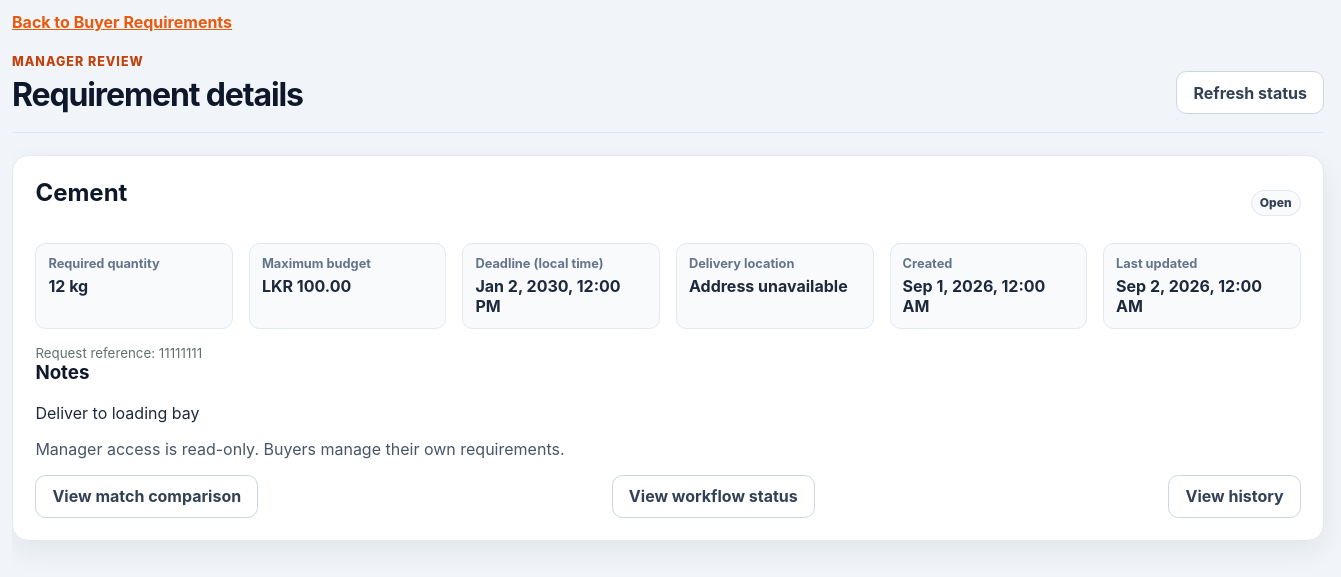
Test: manager requirement components › renders read-only details, workflow status and paginated status history
Expected: the text "Deliver to loading bay" is shown, [35, 403, 200, 423]
Click the link "View workflow status" at (713, 496), box [612, 475, 815, 518]
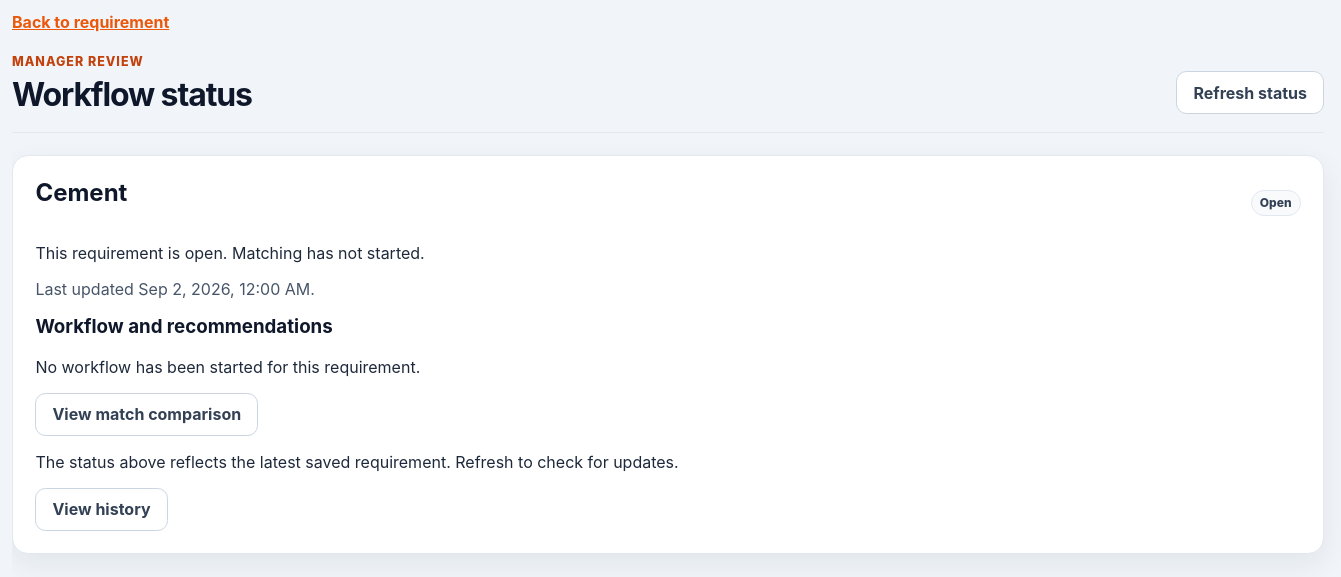
Now the text "No workflow has been started for this requirement." is shown, box [35, 357, 420, 377]
Now the text "This requirement is open. Matching has not started." is shown, box [35, 243, 425, 263]
Click the link "View history" at (102, 509), box [35, 488, 168, 531]
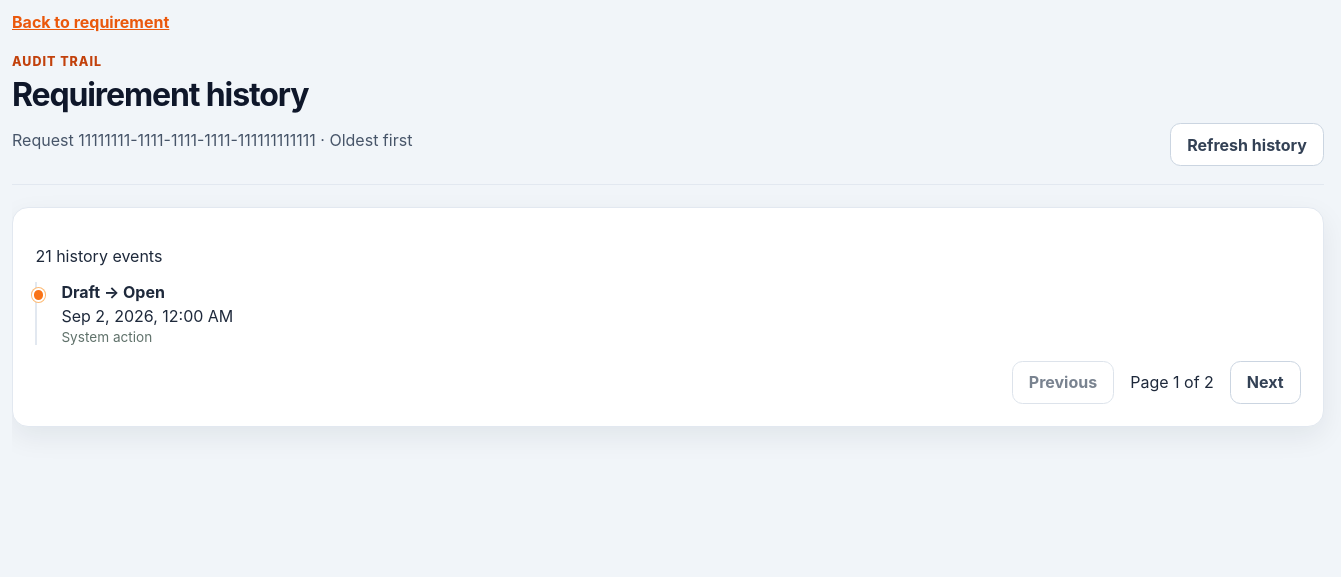
Now the text "Draft → Open" is shown, box [61, 282, 165, 302]
Now the text "System action" is shown, box [61, 329, 152, 345]
Click the button "Next" at (1265, 382), box [1230, 361, 1301, 404]
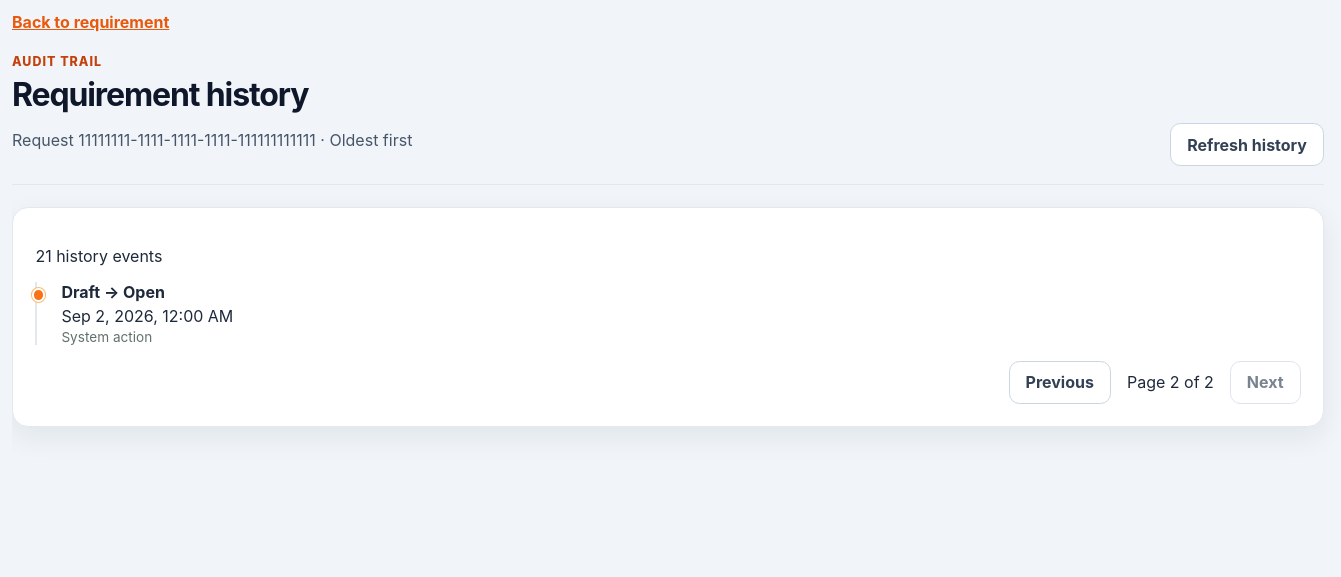
Now the text "Page 2 of 2" is shown, box [1127, 372, 1214, 392]
